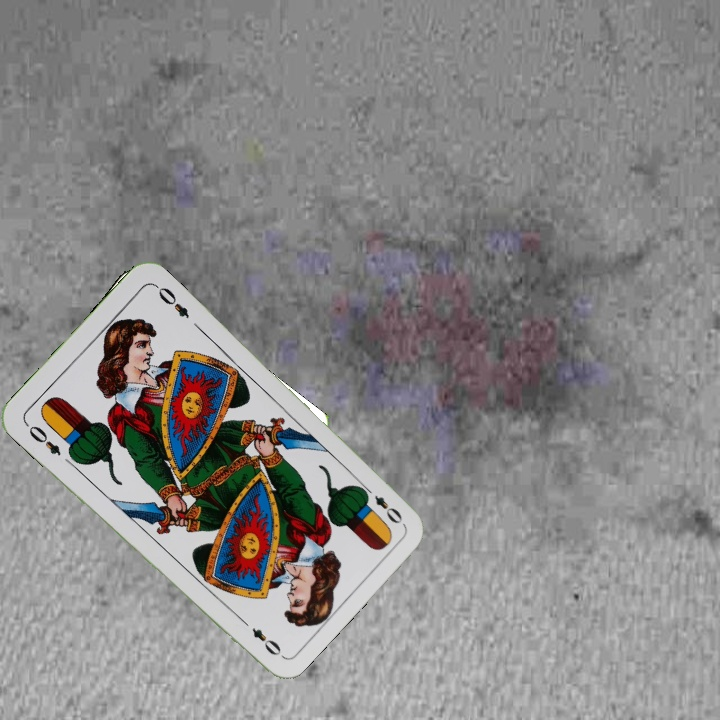EO: (358, 481, 406, 527), (21, 418, 64, 458)
